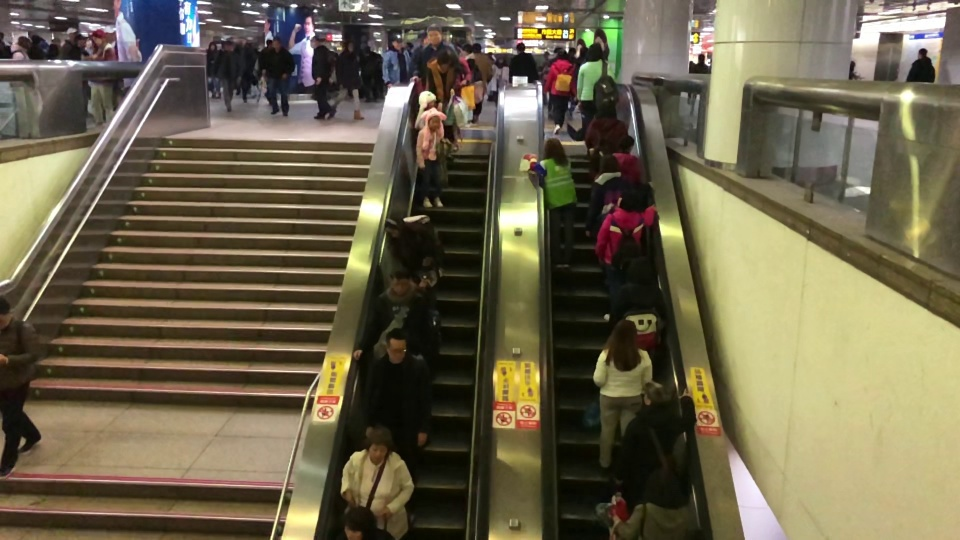person_head: (645, 464, 691, 509), (343, 505, 375, 540), (363, 425, 393, 460), (608, 319, 638, 349), (384, 327, 407, 361), (626, 258, 653, 282), (387, 268, 410, 294), (642, 384, 669, 405), (543, 136, 566, 159), (383, 216, 405, 238), (594, 98, 617, 119), (598, 155, 621, 175), (618, 189, 639, 210), (427, 23, 444, 46), (436, 50, 455, 70), (586, 41, 604, 61), (617, 134, 635, 153), (0, 295, 9, 327), (428, 112, 441, 130), (92, 31, 102, 46), (17, 35, 29, 47), (309, 36, 322, 47), (78, 35, 88, 48), (392, 35, 402, 48), (556, 48, 567, 59), (917, 46, 927, 58), (473, 41, 482, 54), (272, 36, 280, 49), (516, 42, 525, 53), (67, 28, 76, 38), (224, 40, 233, 50), (496, 54, 505, 64), (697, 53, 705, 64), (849, 60, 857, 71), (208, 41, 216, 50), (345, 41, 353, 50), (0, 31, 6, 41)
person_vbox: (362, 327, 433, 526), (591, 319, 653, 484), (614, 384, 698, 491), (339, 425, 415, 540), (351, 268, 442, 362), (594, 189, 658, 322), (0, 294, 42, 481), (524, 136, 579, 270), (610, 464, 699, 540), (585, 154, 653, 237), (609, 257, 668, 348), (382, 214, 448, 290), (584, 98, 628, 181), (574, 41, 619, 122), (414, 111, 447, 208), (85, 31, 117, 126), (543, 48, 576, 134), (409, 23, 458, 80), (331, 39, 365, 121), (262, 36, 296, 117), (309, 35, 337, 120), (468, 42, 494, 126), (424, 48, 459, 104), (215, 40, 242, 111), (70, 35, 92, 117), (381, 35, 412, 89), (612, 134, 645, 183), (508, 42, 540, 83), (905, 47, 936, 83), (491, 54, 509, 111), (206, 41, 221, 98), (58, 27, 76, 61), (10, 34, 29, 59), (693, 53, 708, 74), (0, 31, 11, 58), (849, 61, 863, 80)
